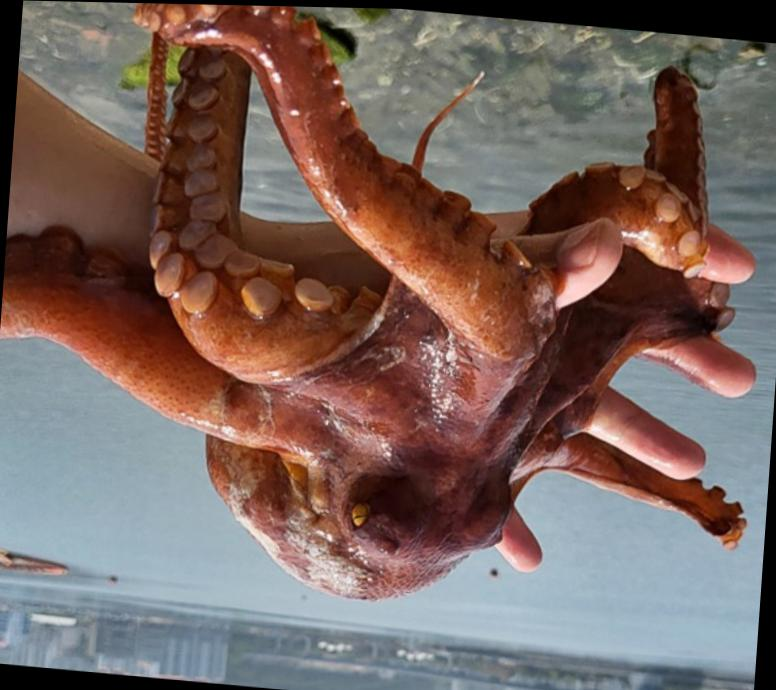Cephalopod: (1, 2, 744, 598)
